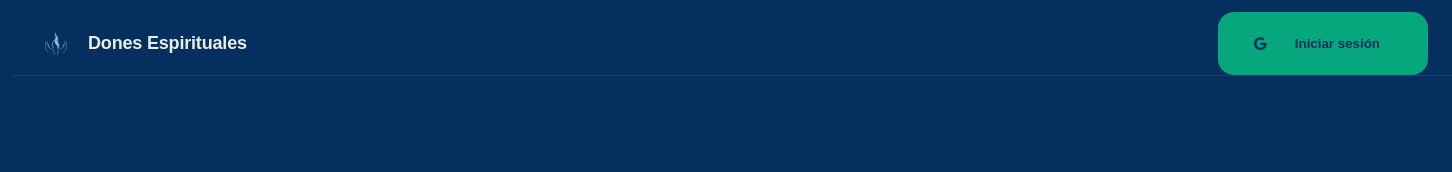
Test case: NavBar › click en Google → signInWithGoogle + navega a /entrar
The image size is (1452, 172).
El botón de Google tiene aria-label o texto "Iniciar sesión"
Click the button "Iniciar sesión" at (1323, 44), box x1=1218 y1=12 x2=1428 y2=75
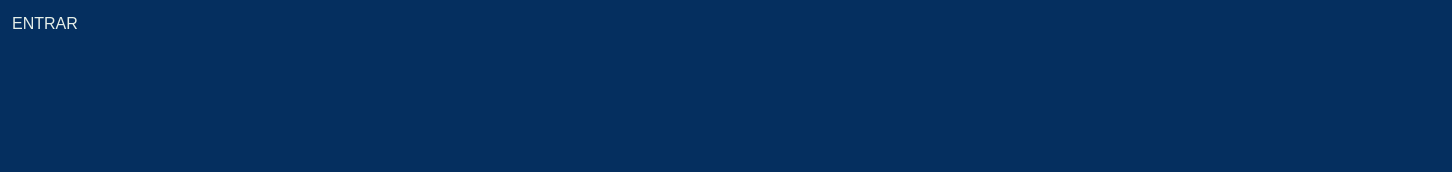
Expected: the text "ENTRAR" is shown, x1=12 y1=15 x2=78 y2=32
